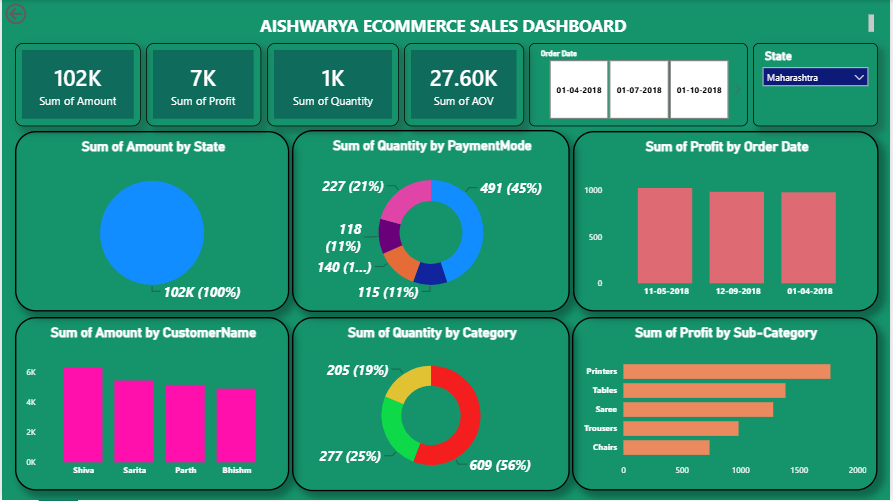

Layout of this report page (visuals, bound fields, positions):
{"tool":"powerbi","page":{"name":"Page 1","canvas":[1280,720],"ordinal":0},"visuals":[{"type":"textbox","box":[19.2,15.4,1242.3,38.5],"z":0},{"type":"cardVisual","fields":{"Data":["Sum(Details.Amount)"]},"box":[18.7,61.9,181.4,119.5],"z":1000},{"type":"cardVisual","fields":{"Data":["Sum(Details.Profit)"]},"box":[208,61.9,165.6,119.5],"z":2000},{"type":"cardVisual","fields":{"Data":["Sum(Details.Quantity)"]},"box":[382,61.9,190.1,119.5],"z":3000},{"type":"cardVisual","fields":{"Data":["Sum(Details.AOV)"]},"box":[579,61.9,172.8,119.5],"z":4000},{"type":"slicer","fields":{"Values":["Orders (1).Order Date Hierarchy.Order Date"]},"box":[759,61.9,315.4,119.5],"z":5000},{"type":"actionButton","box":[0,0,100,40],"z":6000},{"type":"slicer","fields":{"Values":["Orders (1).State"]},"box":[1081.4,61.9,180,119.5],"z":7000},{"type":"donutChart","fields":{"Category":["Details.Category"],"Y":["Sum(Details.Quantity)"]},"box":[417.6,456.5,400.3,250.6],"z":8000},{"type":"columnChart","fields":{"Category":["Orders (1).CustomerName"],"Y":["Sum(Details.Amount)"]},"box":[18.5,456.9,394.8,250.3],"z":9000},{"type":"barChart","fields":{"Category":["Details.Sub-Category"],"Y":["Sum(Details.Profit)"]},"box":[821.4,456.9,440.1,250.3],"z":10000},{"type":"donutChart","fields":{"Y":["Sum(Details.Quantity)"],"Series":["Details.PaymentMode"]},"box":[418,187.2,400.3,262.1],"z":11000},{"type":"pieChart","fields":{"Category":["Orders (1).State"],"Y":["Sum(Details.Amount)"]},"box":[18.5,188.1,394.8,260.4],"z":12000},{"type":"clusteredColumnChart","fields":{"Category":["Orders (1).Order Date"],"Y":["Sum(Details.Profit)"]},"box":[821.7,188.4,440.1,260.4],"z":13000}]}

Visuals, with their boxes in screenshot pixels (x1, y1, x2, y2), scaled from the page's 1280x720 canvas onto the 893x501 screenshot:
textbox: [left=13, top=11, right=880, bottom=38]
cardVisual - Sum(Details.Amount): [left=13, top=43, right=140, bottom=126]
cardVisual - Sum(Details.Profit): [left=145, top=43, right=261, bottom=126]
cardVisual - Sum(Details.Quantity): [left=267, top=43, right=399, bottom=126]
cardVisual - Sum(Details.AOV): [left=404, top=43, right=524, bottom=126]
slicer - Orders (1).Order Date Hierarchy.Order Date: [left=530, top=43, right=750, bottom=126]
actionButton: [left=0, top=0, right=70, bottom=28]
slicer - Orders (1).State: [left=754, top=43, right=880, bottom=126]
donutChart - Details.Category x Sum(Details.Quantity): [left=291, top=318, right=571, bottom=492]
columnChart - Orders (1).CustomerName x Sum(Details.Amount): [left=13, top=318, right=288, bottom=492]
barChart - Details.Sub-Category x Sum(Details.Profit): [left=573, top=318, right=880, bottom=492]
donutChart - Sum(Details.Quantity) x Details.PaymentMode: [left=292, top=130, right=571, bottom=313]
pieChart - Orders (1).State x Sum(Details.Amount): [left=13, top=131, right=288, bottom=312]
clusteredColumnChart - Orders (1).Order Date x Sum(Details.Profit): [left=573, top=131, right=880, bottom=312]
